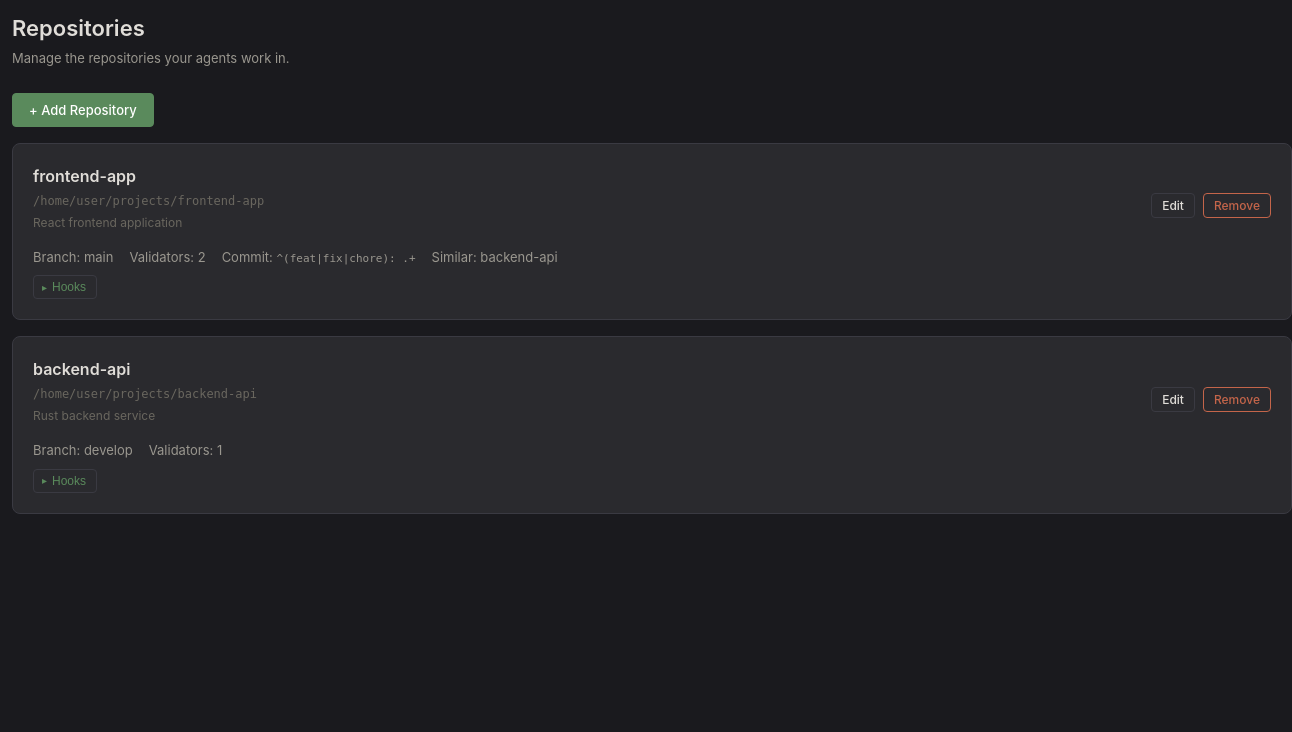
Test: ReposPage › enters edit mode when Edit clicked
Expected: the text "frontend-app" is shown, [33,166,136,186]
Click the button "Edit" in the row of "/home/user/projects/frontend-app": coordinates (1173, 206) [1151,193,1195,218]
(page scrolled)
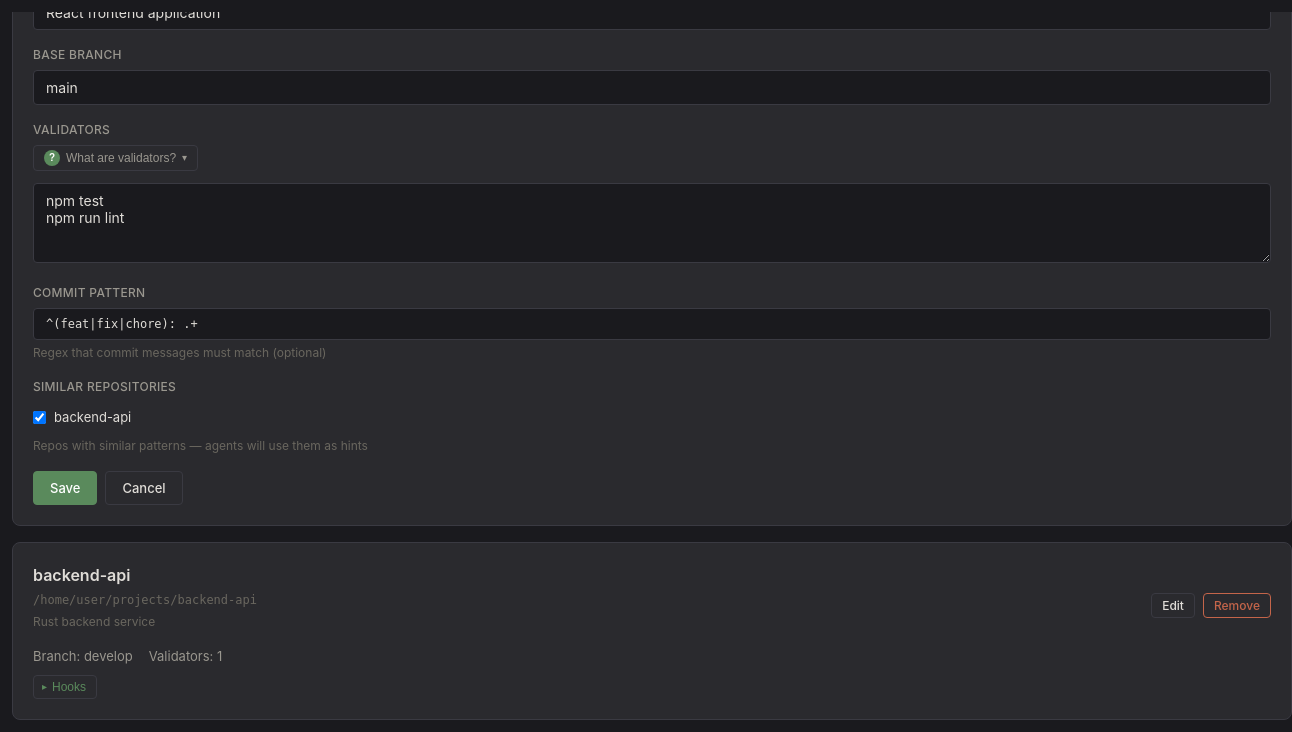
Expected: the button "Save" is shown, [33,471,97,505]
Expected: the button "Cancel" is shown, [105,471,183,505]
